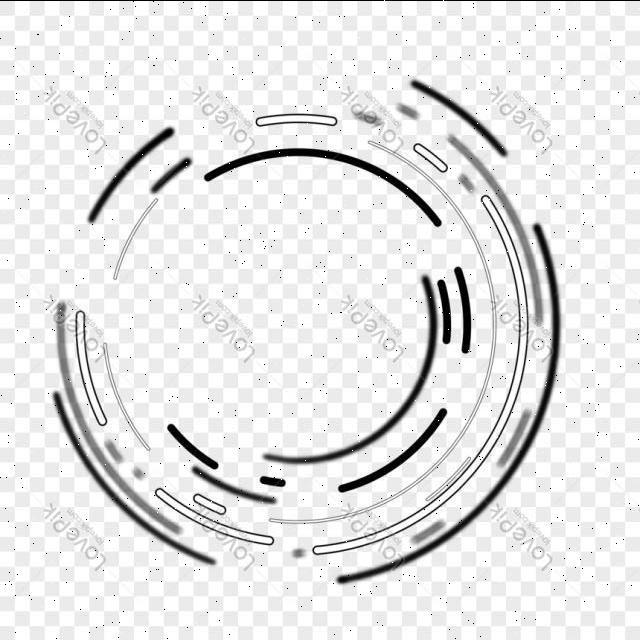Circle: (46, 76, 562, 591)
